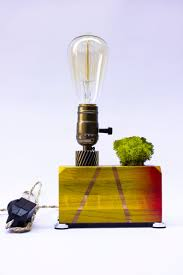bulb: (59, 29, 120, 118)
